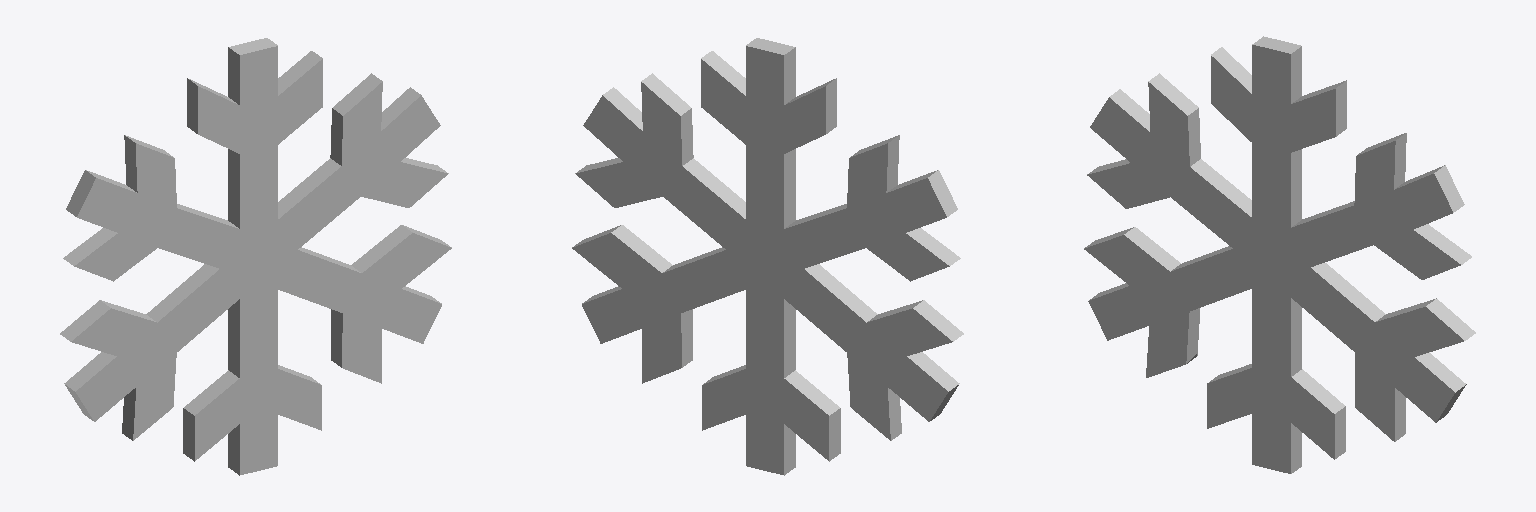
Rendered from Schnee.obj.
3 views of the same model, side by side, from view 1: azimuth 30°, elevation 25°; view 2: azimuth 150°, elevation 25°; view 3: azimuth 330°, elevation 25° (orthographic).
Parts seen in each view (by area): view 1: Cylinder; view 2: Cylinder; view 3: Cylinder.
Part boxes in pixels (left/top/right/bottom): Cylinder: left=60, top=38, right=451, bottom=475; Cylinder: left=572, top=38, right=963, bottom=475; Cylinder: left=1084, top=36, right=1475, bottom=473.
Bounding box in the file's own units: 0.7737 × 0.8143 × 0.0393.